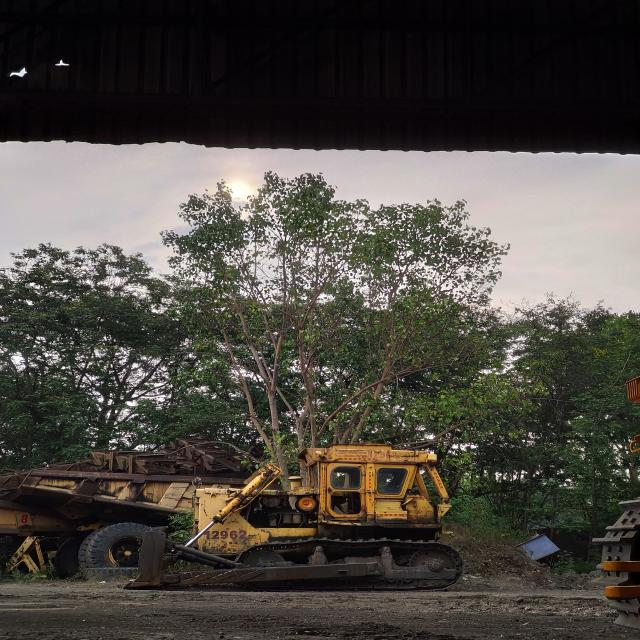bull_dozer/loader/grader: (127, 444, 463, 590)
dump_truck: (0, 438, 252, 574), (317, 500, 320, 501)
